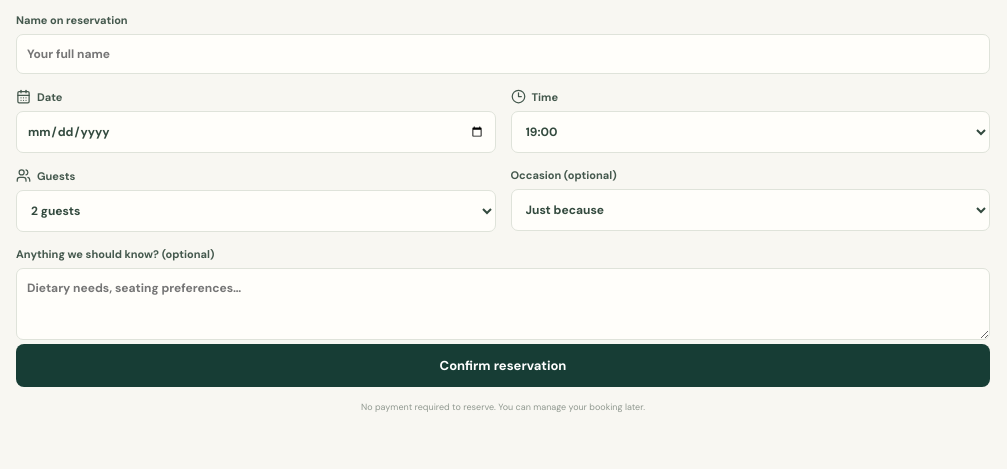
it: shows validation messages before submitting
Click the button "Confirm reservation" at point(503, 366), box [16,344,990,387]
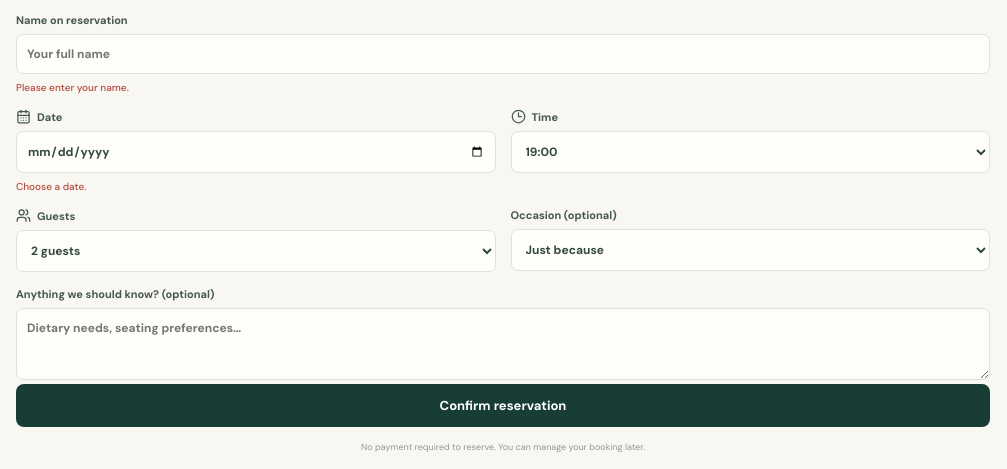
Check: the text "Please enter your name." is shown, box [16,81,129,94]
